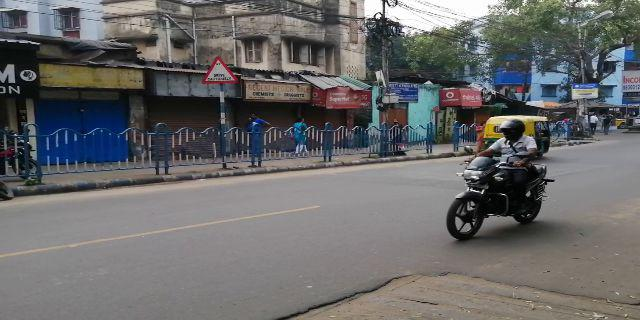Autorickshaw: (479, 113, 556, 160)
Motorbike: (443, 121, 554, 237)
